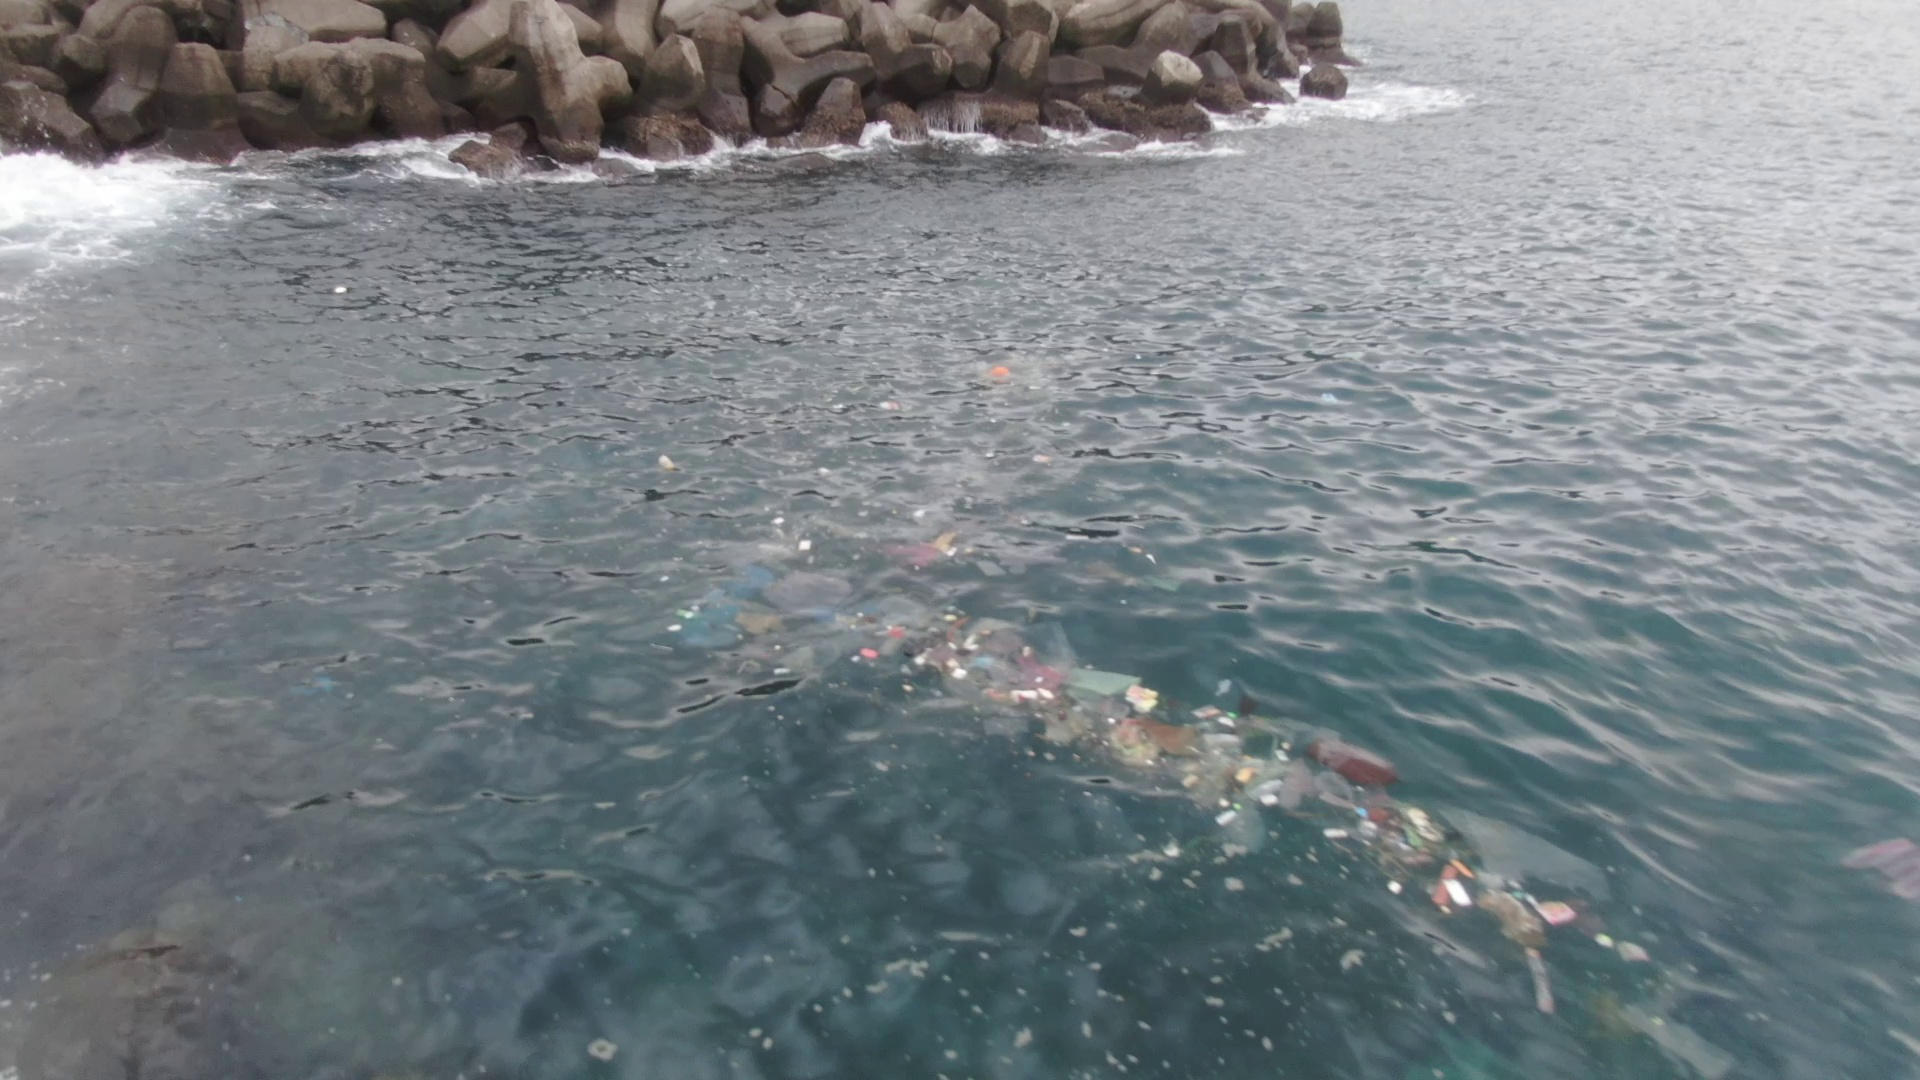garbage: (861, 531, 1654, 1017), (1836, 818, 1920, 905)
